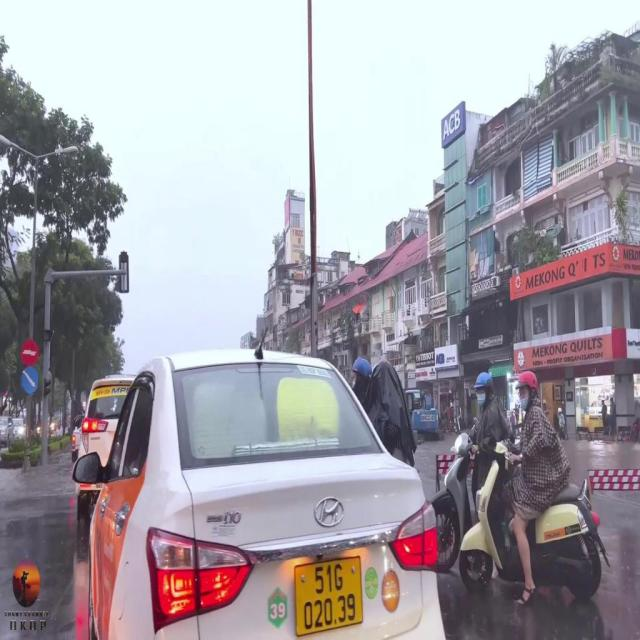cam_xe_di_nguoc_chieu: (21, 338, 38, 366)
huong_phai_di_vuot_chuong_ngai_vat_phai: (20, 366, 38, 396)
